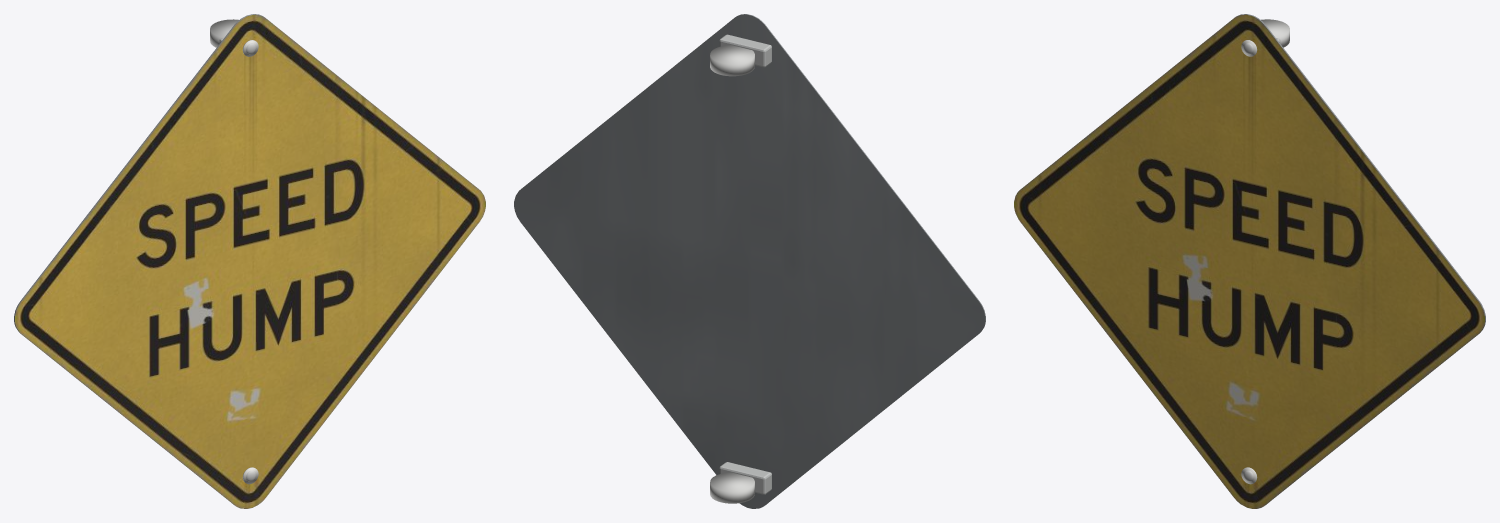
Rendered from warning-v1.glb.
3 views of the same model, side by side, from view 1: azimuth 30°, elevation 25°; view 2: azimuth 150°, elevation 25°; view 3: azimuth 330°, elevation 25° (orthographic).
Visible parts, largest first — view 1: warning-v1; view 2: warning-v1; view 3: warning-v1.
Boxes of the visible parts, left/top/right/bottom form: warning-v1: left=14, top=14, right=485, bottom=508; warning-v1: left=514, top=14, right=985, bottom=508; warning-v1: left=1014, top=14, right=1485, bottom=508.
Size of the model in its own units: 0.762 by 0.762 by 0.0871.
Materials: 1 (1 with a texture image).
